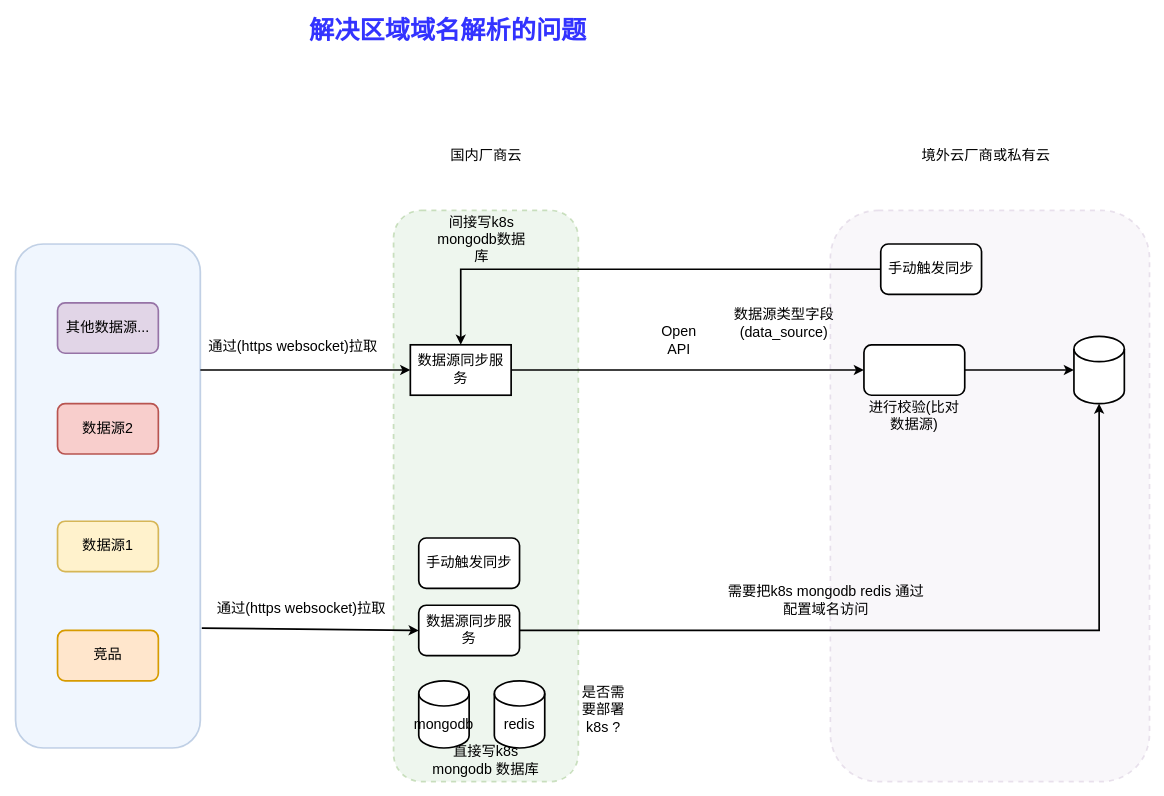
Image size: 1164x796. Some labels were removed from this diagram. The centre of each missing label's shape, as x and y in pixels:
k8s mongodb: point 1099,369
境外服务器: point 914,370
